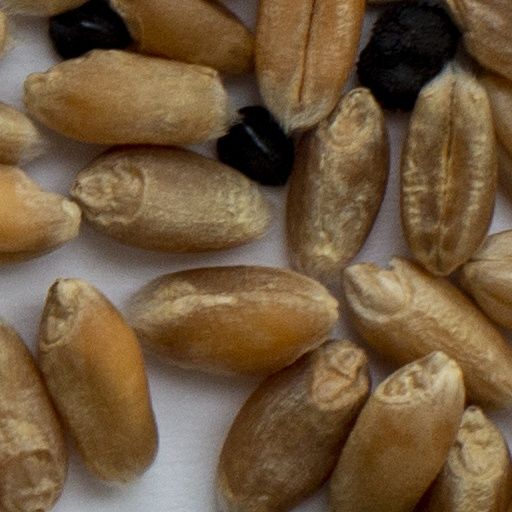Agrostemma-poly: (358, 0, 461, 107)
Fallopia-Convolvulus-poly: (219, 106, 292, 182), (50, 1, 130, 56)
